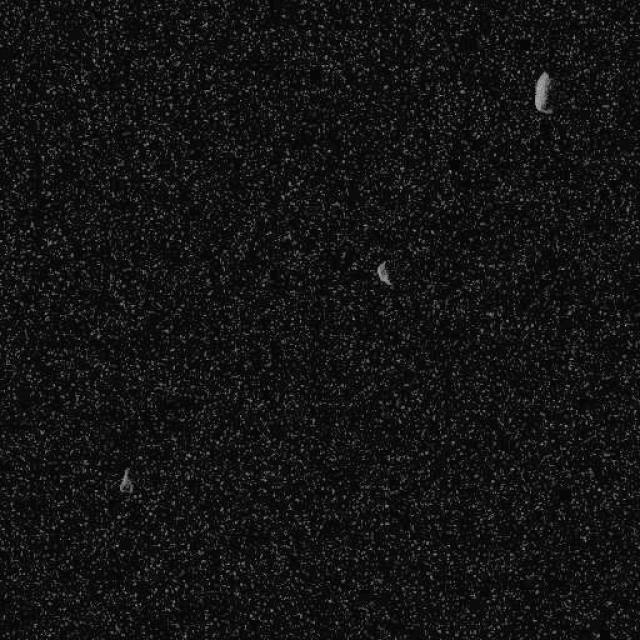D2: (532, 70, 554, 114), (375, 258, 393, 288), (118, 466, 134, 494)
